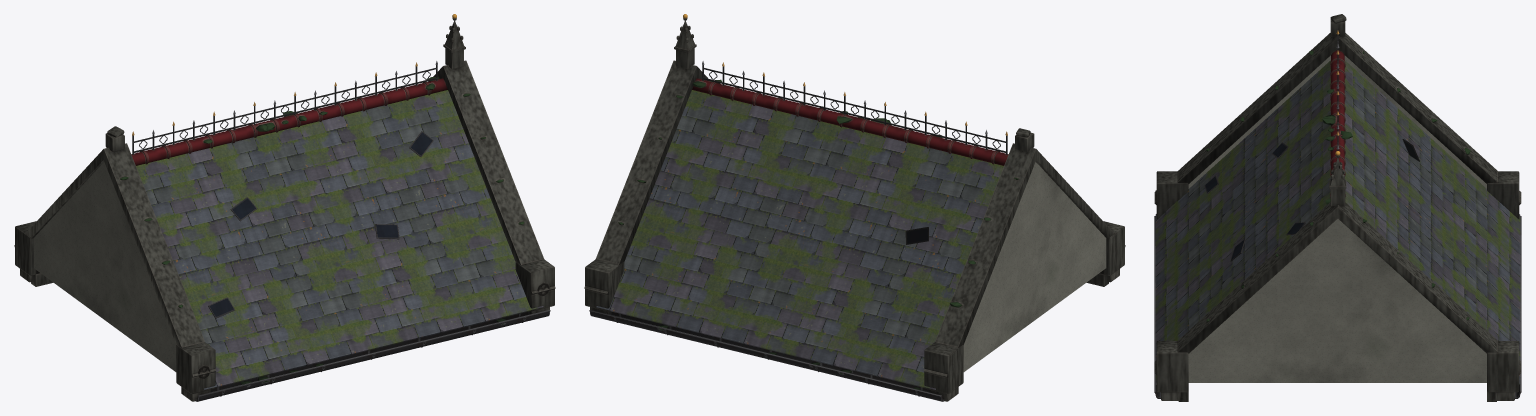
File: MossyGableRoof.fbx
3 views of the same model, side by side, from view 1: azimuth 30°, elevation 25°; view 2: azimuth 150°, elevation 25°; view 3: azimuth 270°, elevation 25° (orthographic). The views are drawn at different scales.
Parts seen in each view (by area): view 1: MossyGableRoof_Moss, MossyGableRoof_Main, MossyGableRoof_Stone; view 2: MossyGableRoof_Moss, MossyGableRoof_Main, MossyGableRoof_Stone; view 3: MossyGableRoof_Moss, MossyGableRoof_Stone, MossyGableRoof_Main.
Boxes of the visible parts, x1,y1,x2,y2 form: MossyGableRoof_Moss: (136,90,543,389); MossyGableRoof_Main: (14,14,555,401); MossyGableRoof_Stone: (33,162,176,371); MossyGableRoof_Moss: (596,90,1003,389); MossyGableRoof_Main: (584,14,1125,401); MossyGableRoof_Stone: (963,162,1106,371); MossyGableRoof_Moss: (1155,60,1520,384); MossyGableRoof_Stone: (1188,55,1486,382); MossyGableRoof_Main: (1154,14,1521,401).
Bounding box in the file's own units: 1630 × 1035 × 1393.
